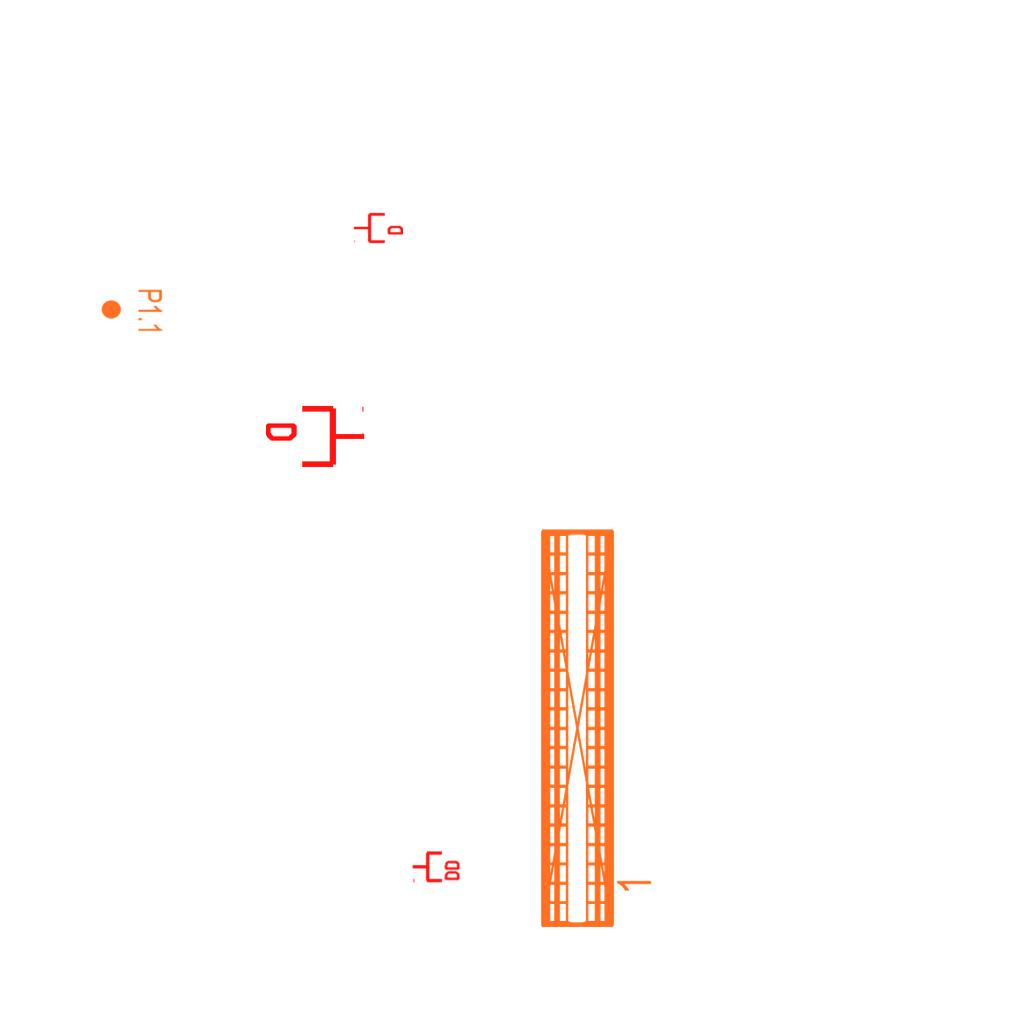Buero_Pendelleuchten_LED: (531, 521, 661, 934)
Datenanschluss_einfach: (266, 402, 366, 471), (353, 211, 403, 245)
Datenanschluss_zweifach: (411, 849, 462, 883)
Downlight_LED_Einbauleuchten_Flur_2: (100, 288, 164, 334)
